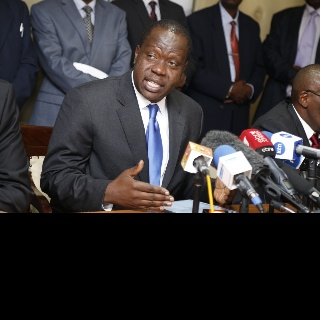without_mask: (133, 19, 192, 100)
